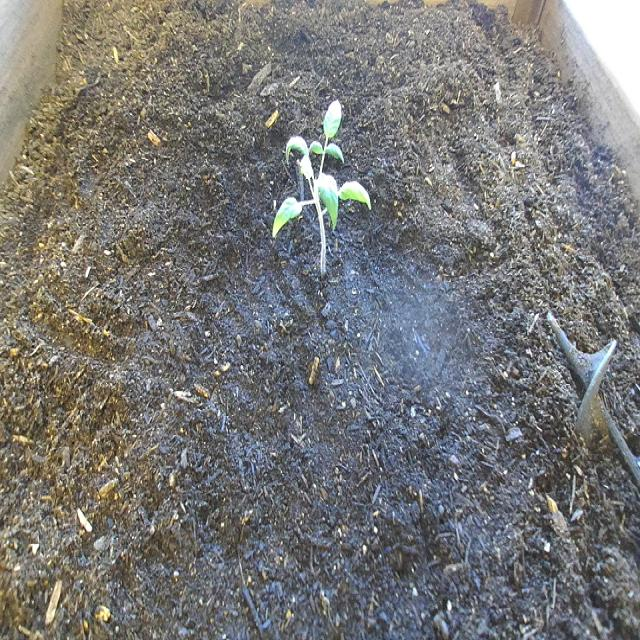Healthy: (270, 95, 376, 288)
